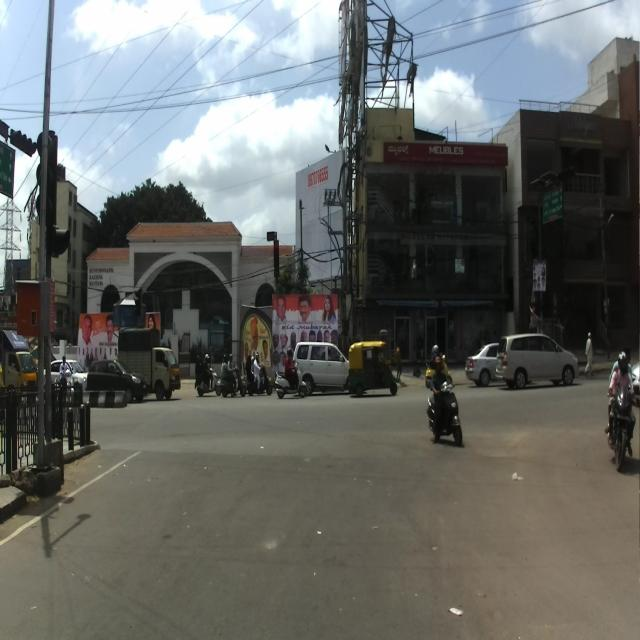car: (495, 332, 579, 386), (289, 340, 351, 395)
motorcycle: (606, 388, 636, 475)
scooter: (426, 381, 465, 448)
